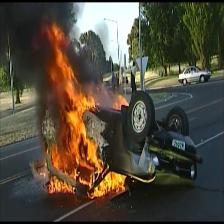fire: (30, 18, 153, 214)
smoke: (0, 3, 56, 92)
